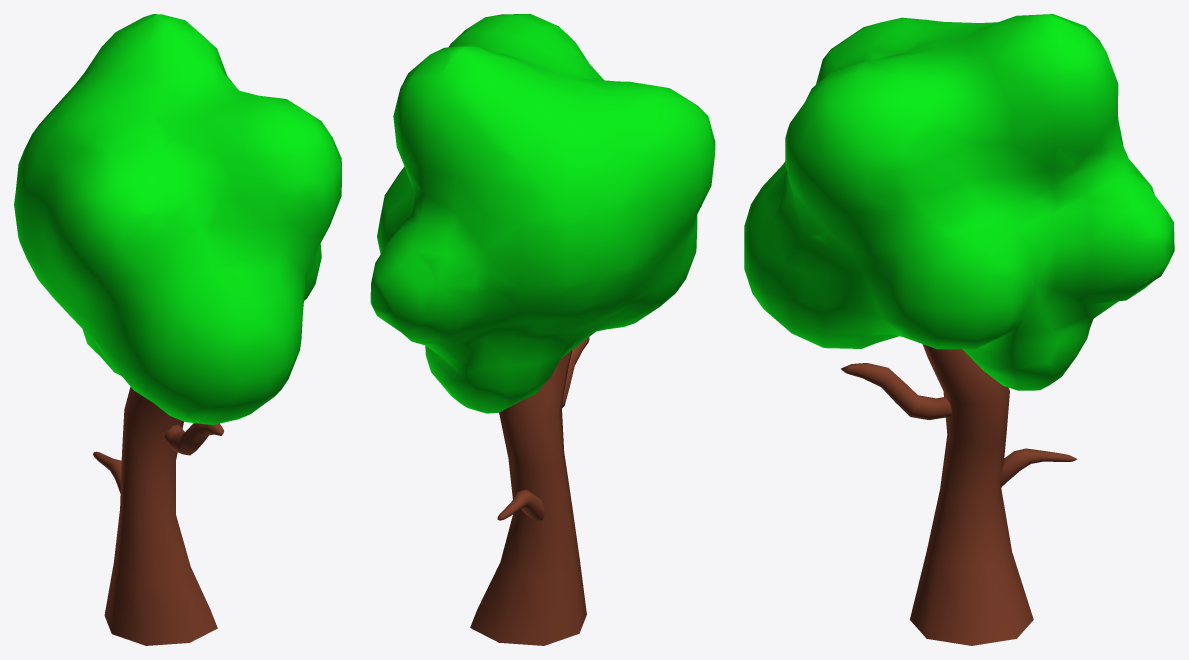
Rendered from Tree_001.fbx.
3 renders of one model, left to right at view 1: azimuth 30°, elevation 25°; view 2: azimuth 150°, elevation 25°; view 3: azimuth 270°, elevation 25°, orthographic. The views are drawn at different scales.
Parts seen in each view (by area): view 1: Baum1; view 2: Baum1; view 3: Baum1.
Part boxes in pixels (bbox=[...]): Baum1: bbox=[14, 14, 341, 645]; Baum1: bbox=[370, 14, 715, 645]; Baum1: bbox=[744, 14, 1174, 645].
Size of the model in its own units: 230 by 455 by 285.
